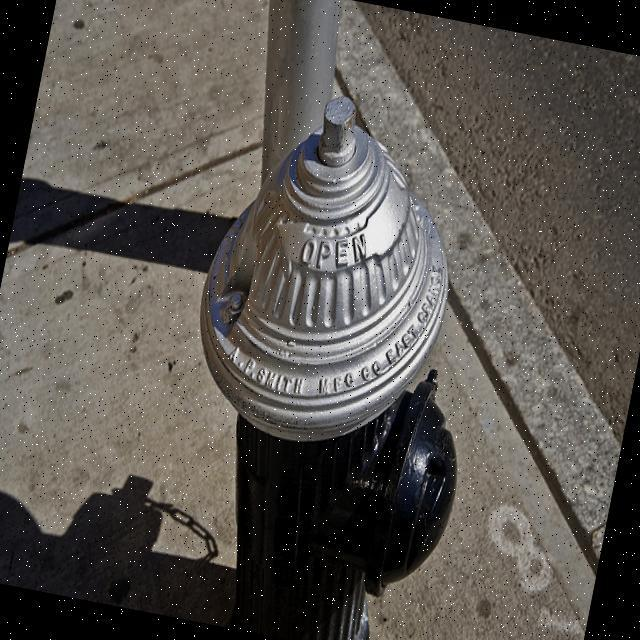fire_hydrant: (142, 80, 526, 640)
